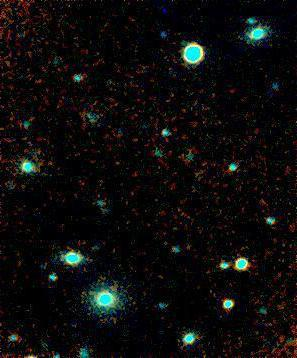star: (102, 149, 132, 179)
